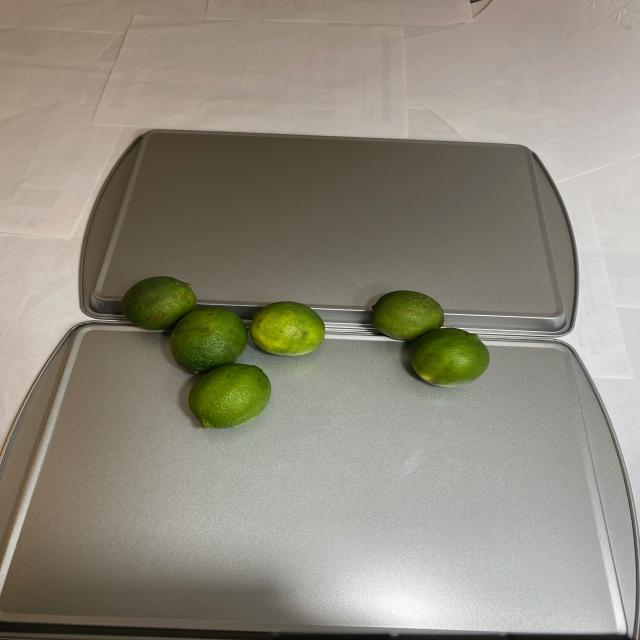lemon: (115, 275, 329, 434), (356, 286, 500, 397)
